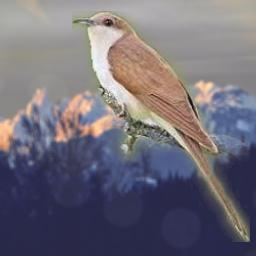Cuckoo: (72, 11, 250, 242)
